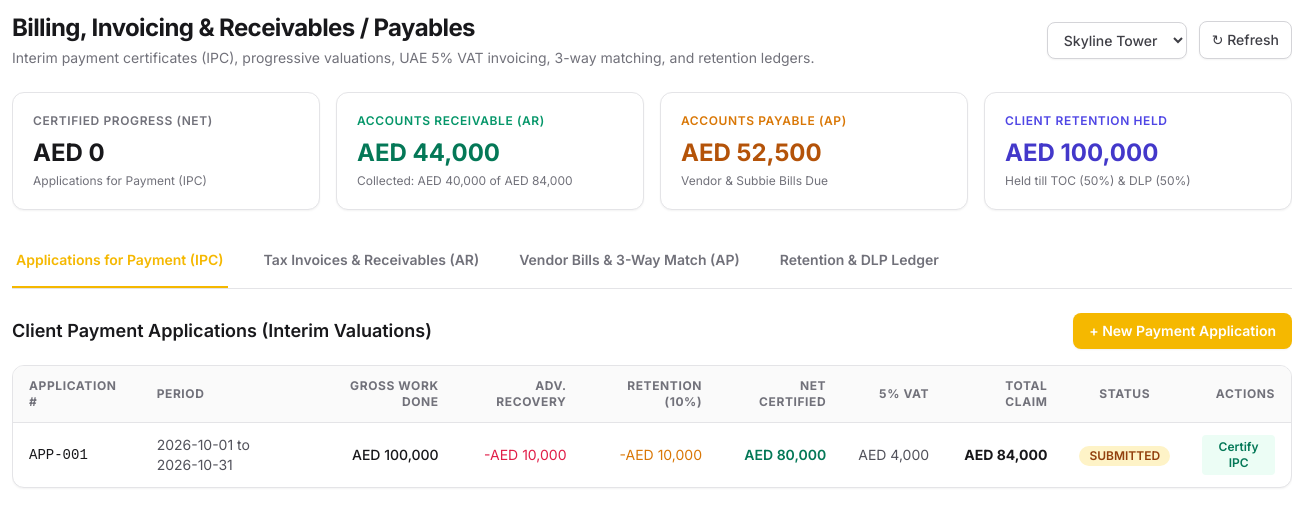
Test: M22: Billing, Invoicing, Receivables & Payables Page › navigates to Retention & DLP Ledger tab and displays milestone release schedule
What coordinates should you click on to do the following:
click the button "Retention & DLP Ledger"
I would click on:
 (859, 261)
Its box is [776,234,943,288].
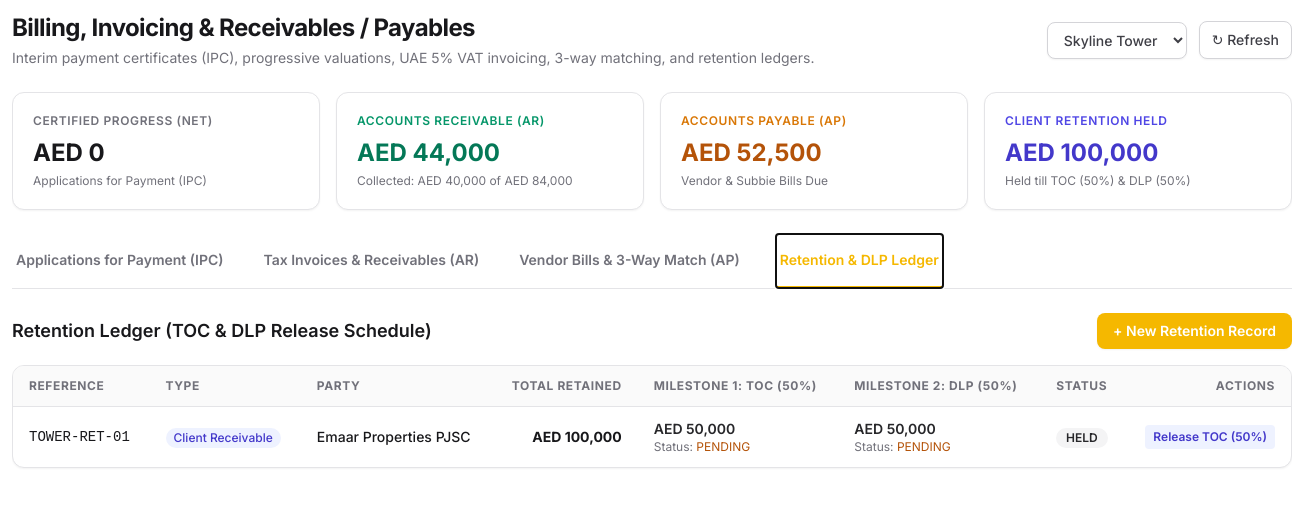
expect the heading "Retention Ledger (TOC & DLP Release Schedule)" is shown: met, box [12,317,432,345]
expect the text "TOWER-RET-01" is shown: met, box [13,406,150,467]
expect the text "Client Receivable" is shown: met, box [166,428,281,448]
